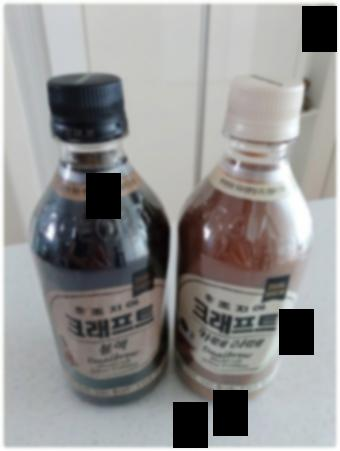georgiacraft_black: (22, 69, 177, 420)
